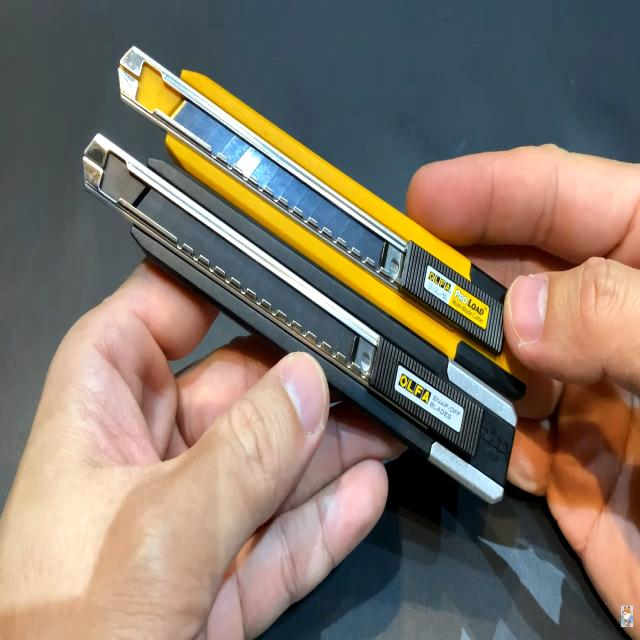cutter: (24, 1, 640, 628)
